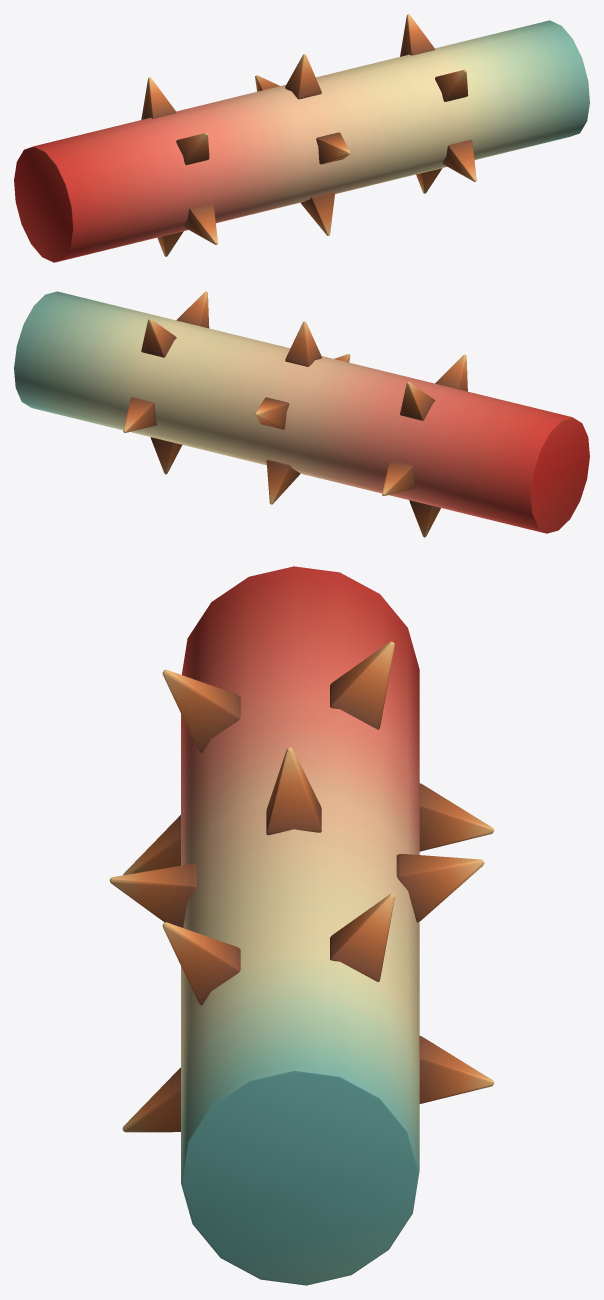
The model's file is obstacle3.fbx.
3 views of the same model, one above another, from view 1: azimuth 30°, elevation 25°; view 2: azimuth 150°, elevation 25°; view 3: azimuth 270°, elevation 25° (orthographic). The views are drawn at different scales.
Parts seen in each view (by area): view 1: Cylinder.041_Color_Pallete_0; view 2: Cylinder.041_Color_Pallete_0; view 3: Cylinder.041_Color_Pallete_0.
Boxes of the visible parts, left/top/right/bottom form: Cylinder.041_Color_Pallete_0: left=14, top=14, right=589, bottom=262; Cylinder.041_Color_Pallete_0: left=14, top=291, right=589, bottom=537; Cylinder.041_Color_Pallete_0: left=109, top=566, right=494, bottom=1285.
Size of the model in its own units: 250 by 82.05 by 80.45.
